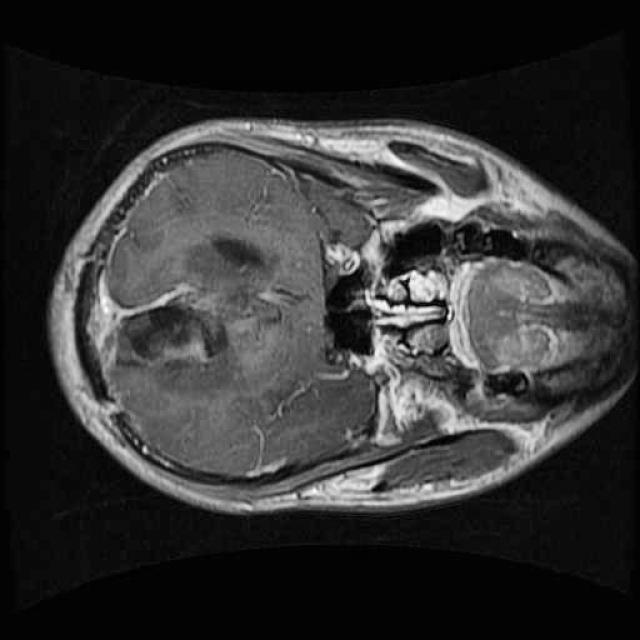Non-Tumor: (105, 295, 238, 375)
